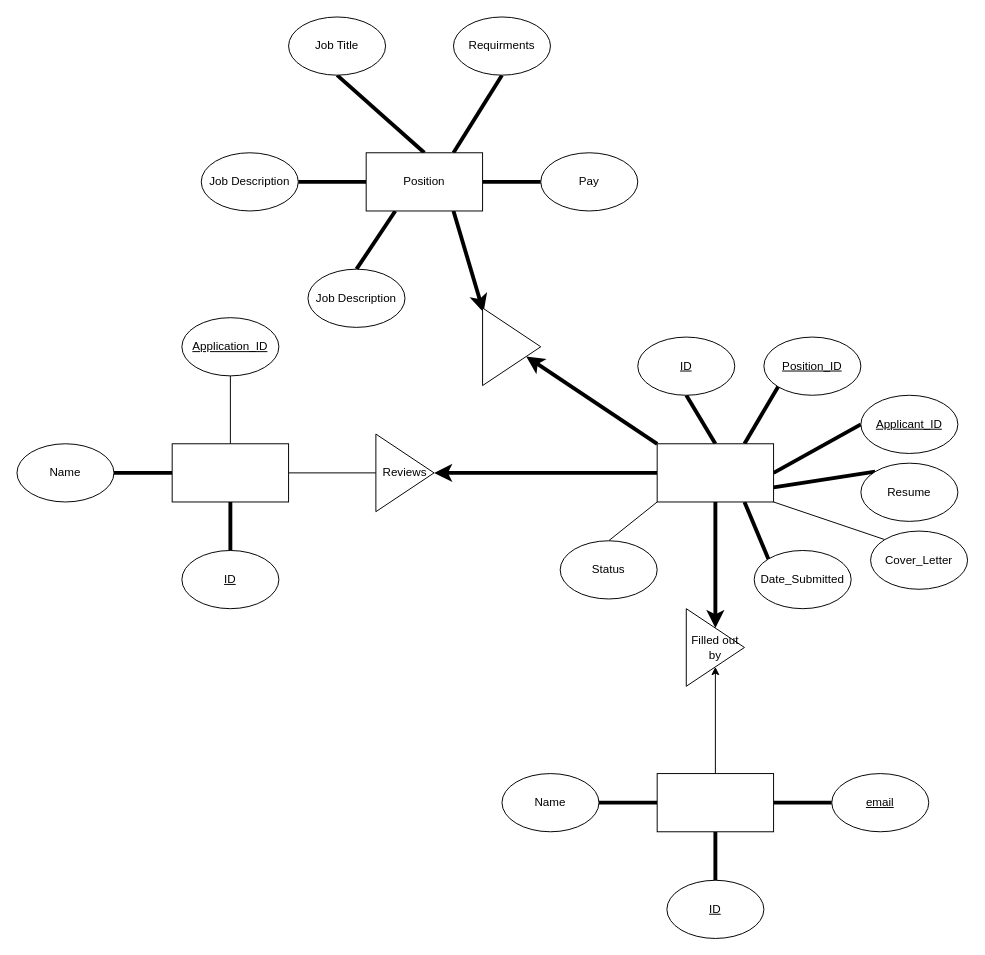
The diagram is 985 pixels wide and 955 high, and some of its shapes have lost their labels. Each missing label, with the centre of its shape:
Applicant: point 715,802
Application: point 715,472
Has a: point 511,346
Manager: point 230,472
